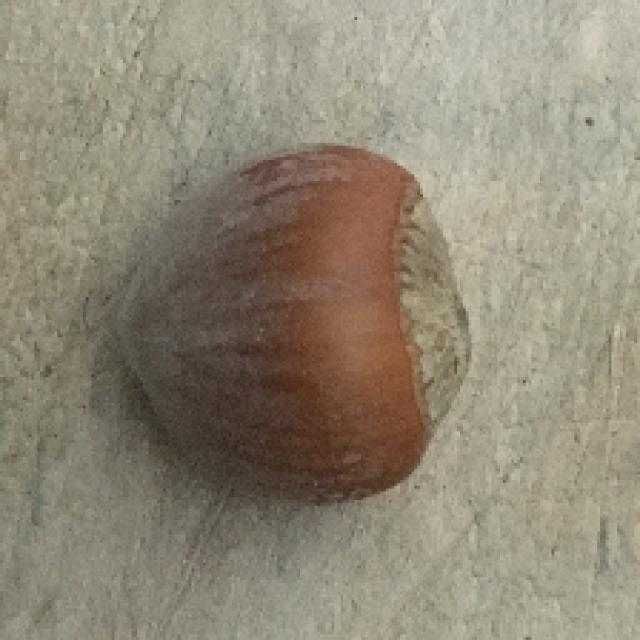qualityHazelnut: (117, 142, 475, 504)
